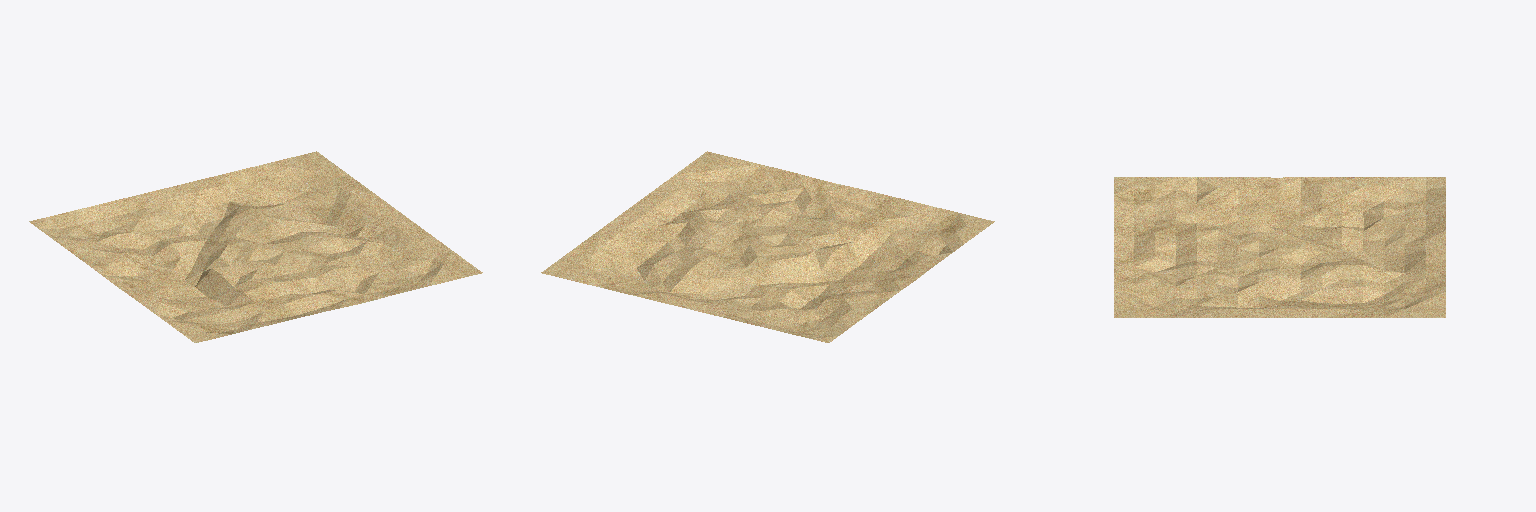
3 renders of one model, left to right at view 1: azimuth 30°, elevation 25°; view 2: azimuth 150°, elevation 25°; view 3: azimuth 270°, elevation 25°, orthographic.
Visible parts, largest first — view 1: Grid; view 2: Grid; view 3: Grid.
Part boxes in pixels (x1,y1,x2,y2): Grid: (29,151,482,342); Grid: (541,151,994,342); Grid: (1114,177,1445,317).
Bounding box in the file's own units: 10 × 0.5734 × 10.
1 materials, 1 textured.